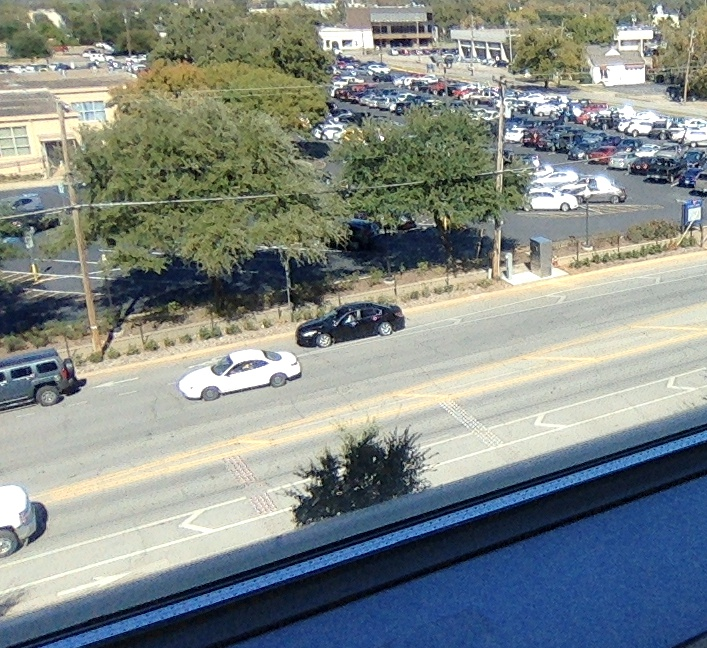car: (300, 300, 407, 348)
